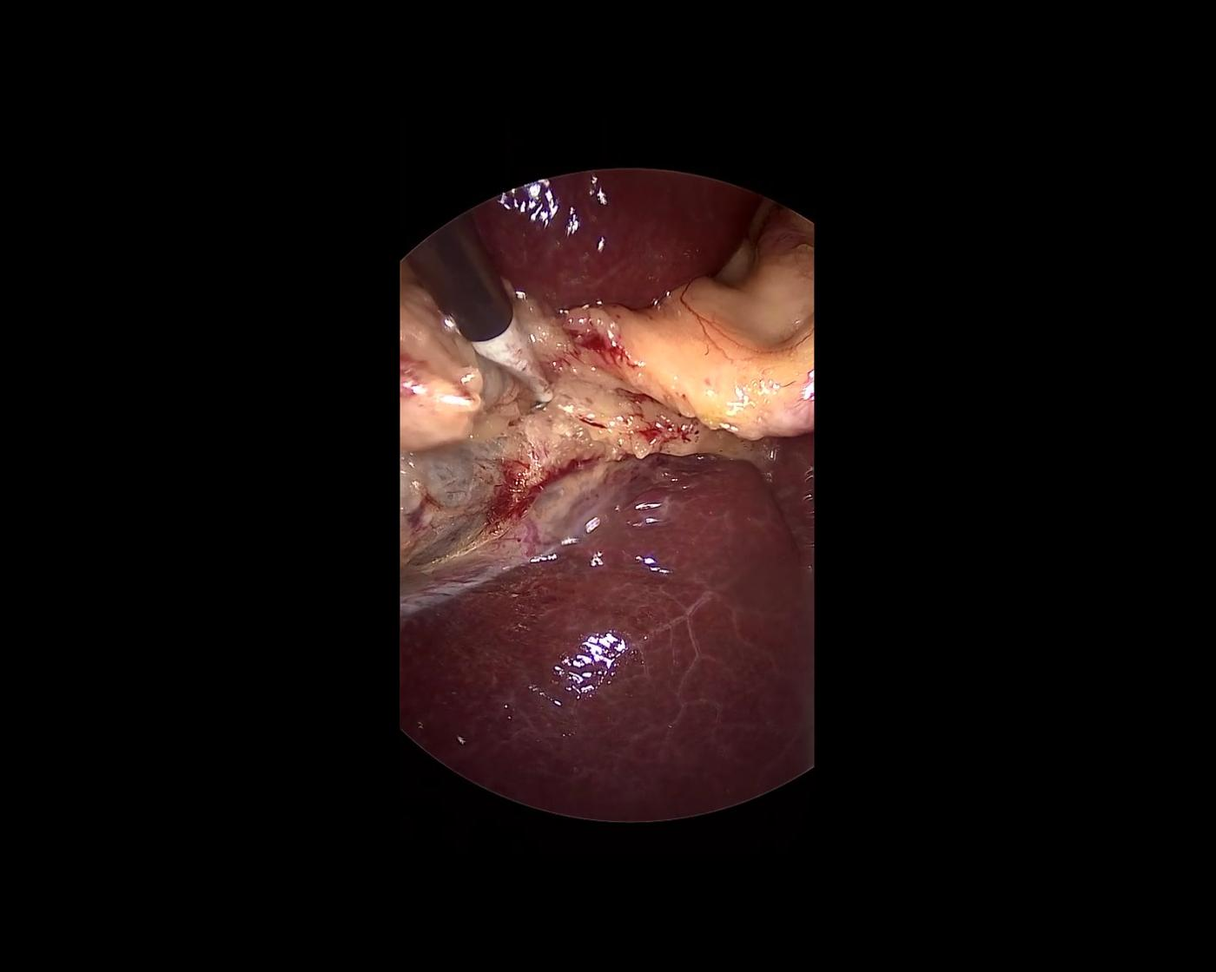Cautery: (397, 209, 558, 435)
Gallbladder: (405, 261, 539, 572)
Liver: (395, 450, 816, 825), (472, 162, 767, 316)
